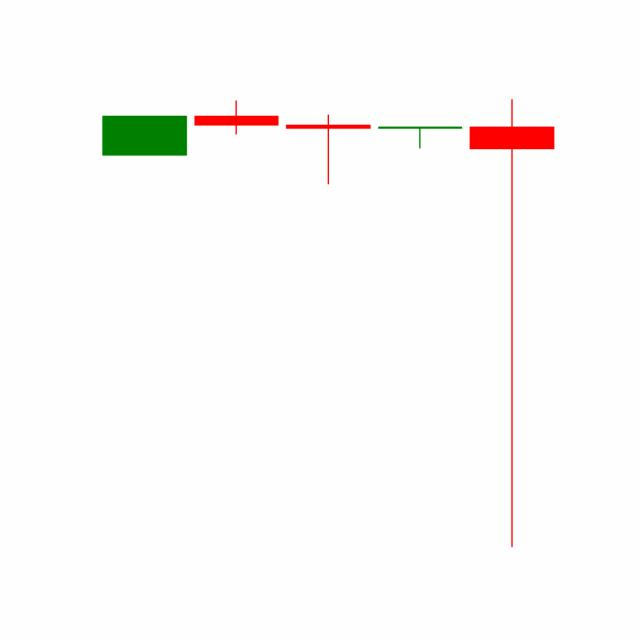Dragonfly Doji: (373, 126, 467, 149)
